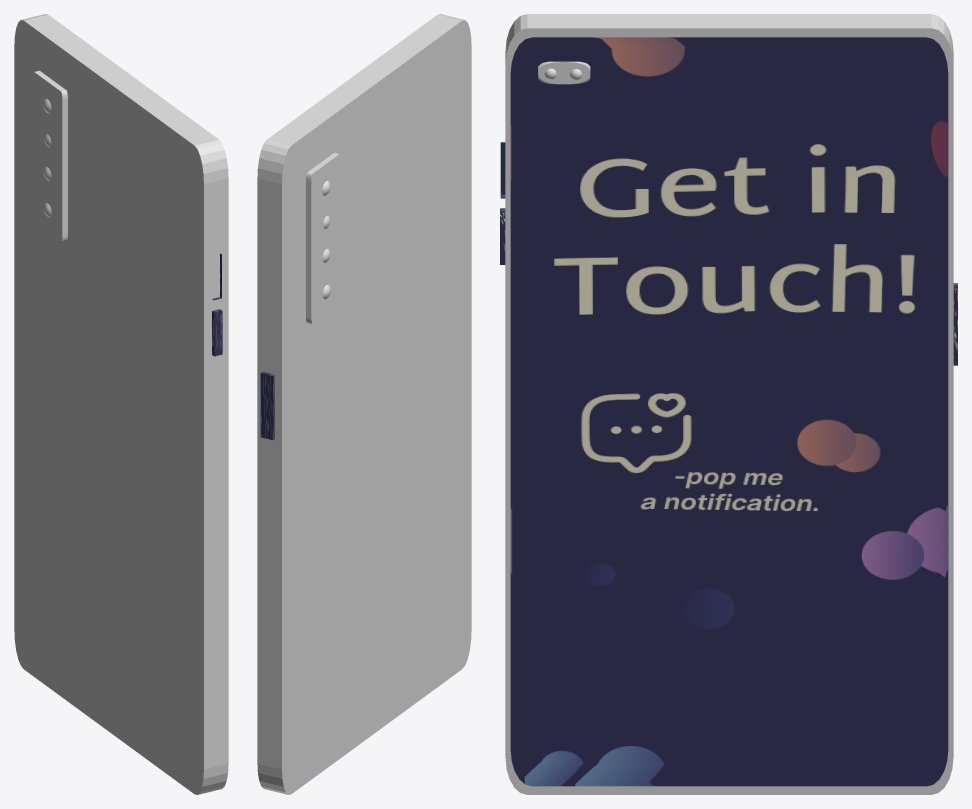
Rendered from phone.gltf.
3 renders of one model, left to right at view 1: azimuth 30°, elevation 25°; view 2: azimuth 150°, elevation 25°; view 3: azimuth 270°, elevation 25°, orthographic. The views are drawn at different scales.
Visible parts, largest first — view 1: Plane, Plane.002, Plane.001; view 2: Plane, Plane.002, Plane.001; view 3: Plane.001, Plane, Cube.
Boxes of the visible parts, x1,y1,x2,y2 form: Plane: (14, 14, 228, 794); Plane.002: (33, 70, 67, 241); Plane.001: (212, 253, 222, 356); Plane: (257, 14, 471, 794); Plane.002: (306, 152, 340, 323); Plane.001: (260, 372, 274, 440); Plane.001: (500, 37, 957, 786); Plane: (505, 14, 953, 794); Cube: (538, 61, 590, 84).
Size of the model in its own units: 0.2284 by 3.83 by 2.07.
1 material, 1 textured.
